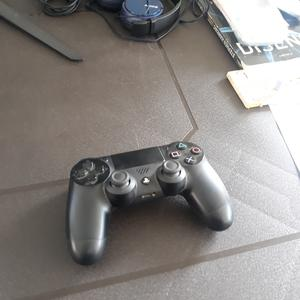controller: (67, 141, 233, 266)
